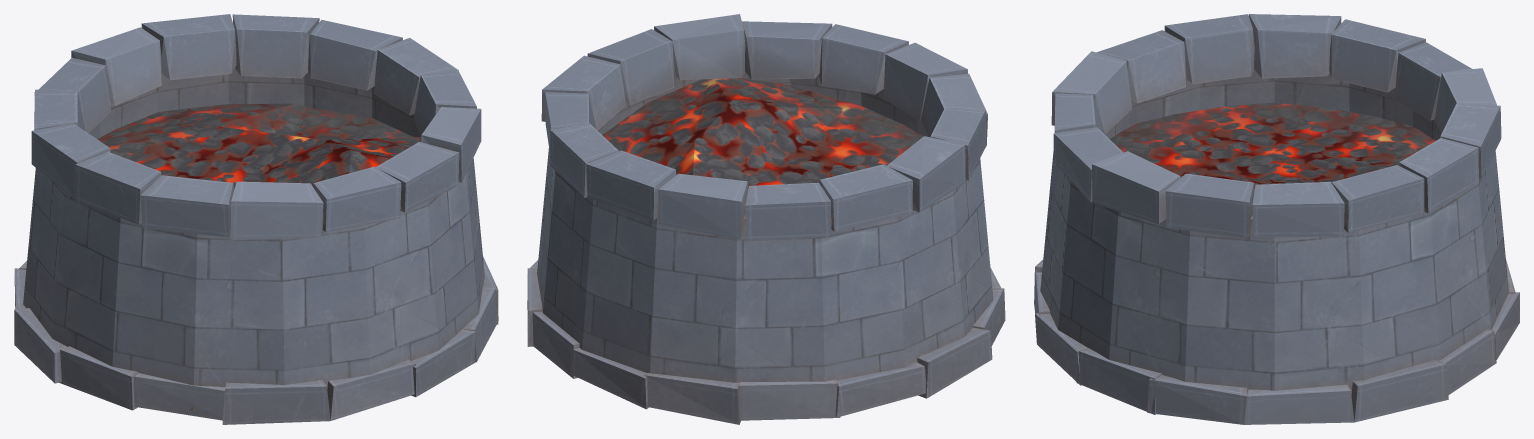
The model's file is ROK0310002.fbx.
3 renders of one model, left to right at view 1: azimuth 30°, elevation 25°; view 2: azimuth 150°, elevation 25°; view 3: azimuth 270°, elevation 25°, orthographic.
Parts seen in each view (by area): view 1: smROK0310002; view 2: smROK0310002; view 3: smROK0310002.
Boxes of the visible parts, bbox=[...] form: smROK0310002: bbox=[14, 14, 498, 424]; smROK0310002: bbox=[527, 14, 1005, 424]; smROK0310002: bbox=[1034, 14, 1519, 424].
Bounding box in the file's own units: 202 × 101 × 198.
1 material, 1 textured.
